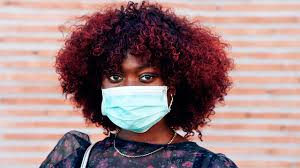with-mask: (96, 29, 180, 135)
